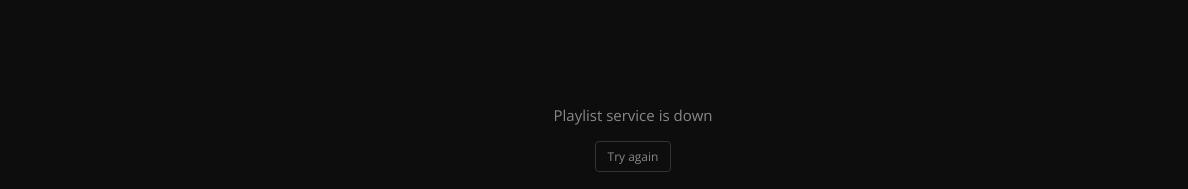
Test: /playlist/<slug> whose playlist cannot be reached › shows the playlist after Try again once the failure is over
The width and height of the screenshot is (1188, 189).
Click the button with class "address-action": point(633, 156) [594,140,671,172]
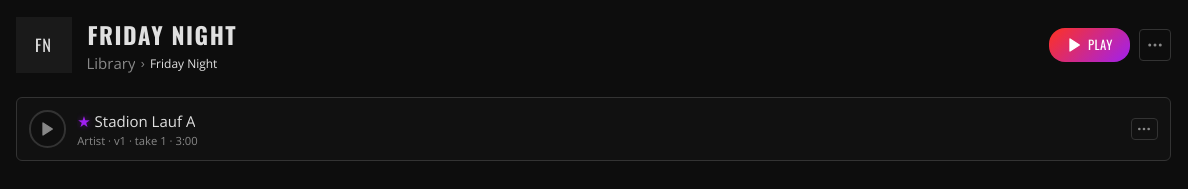
Result: the text "Friday Night" is shown at [86,16,242,53]
Result: the text "Stadion Lauf A" is shown at [91,110,195,130]
